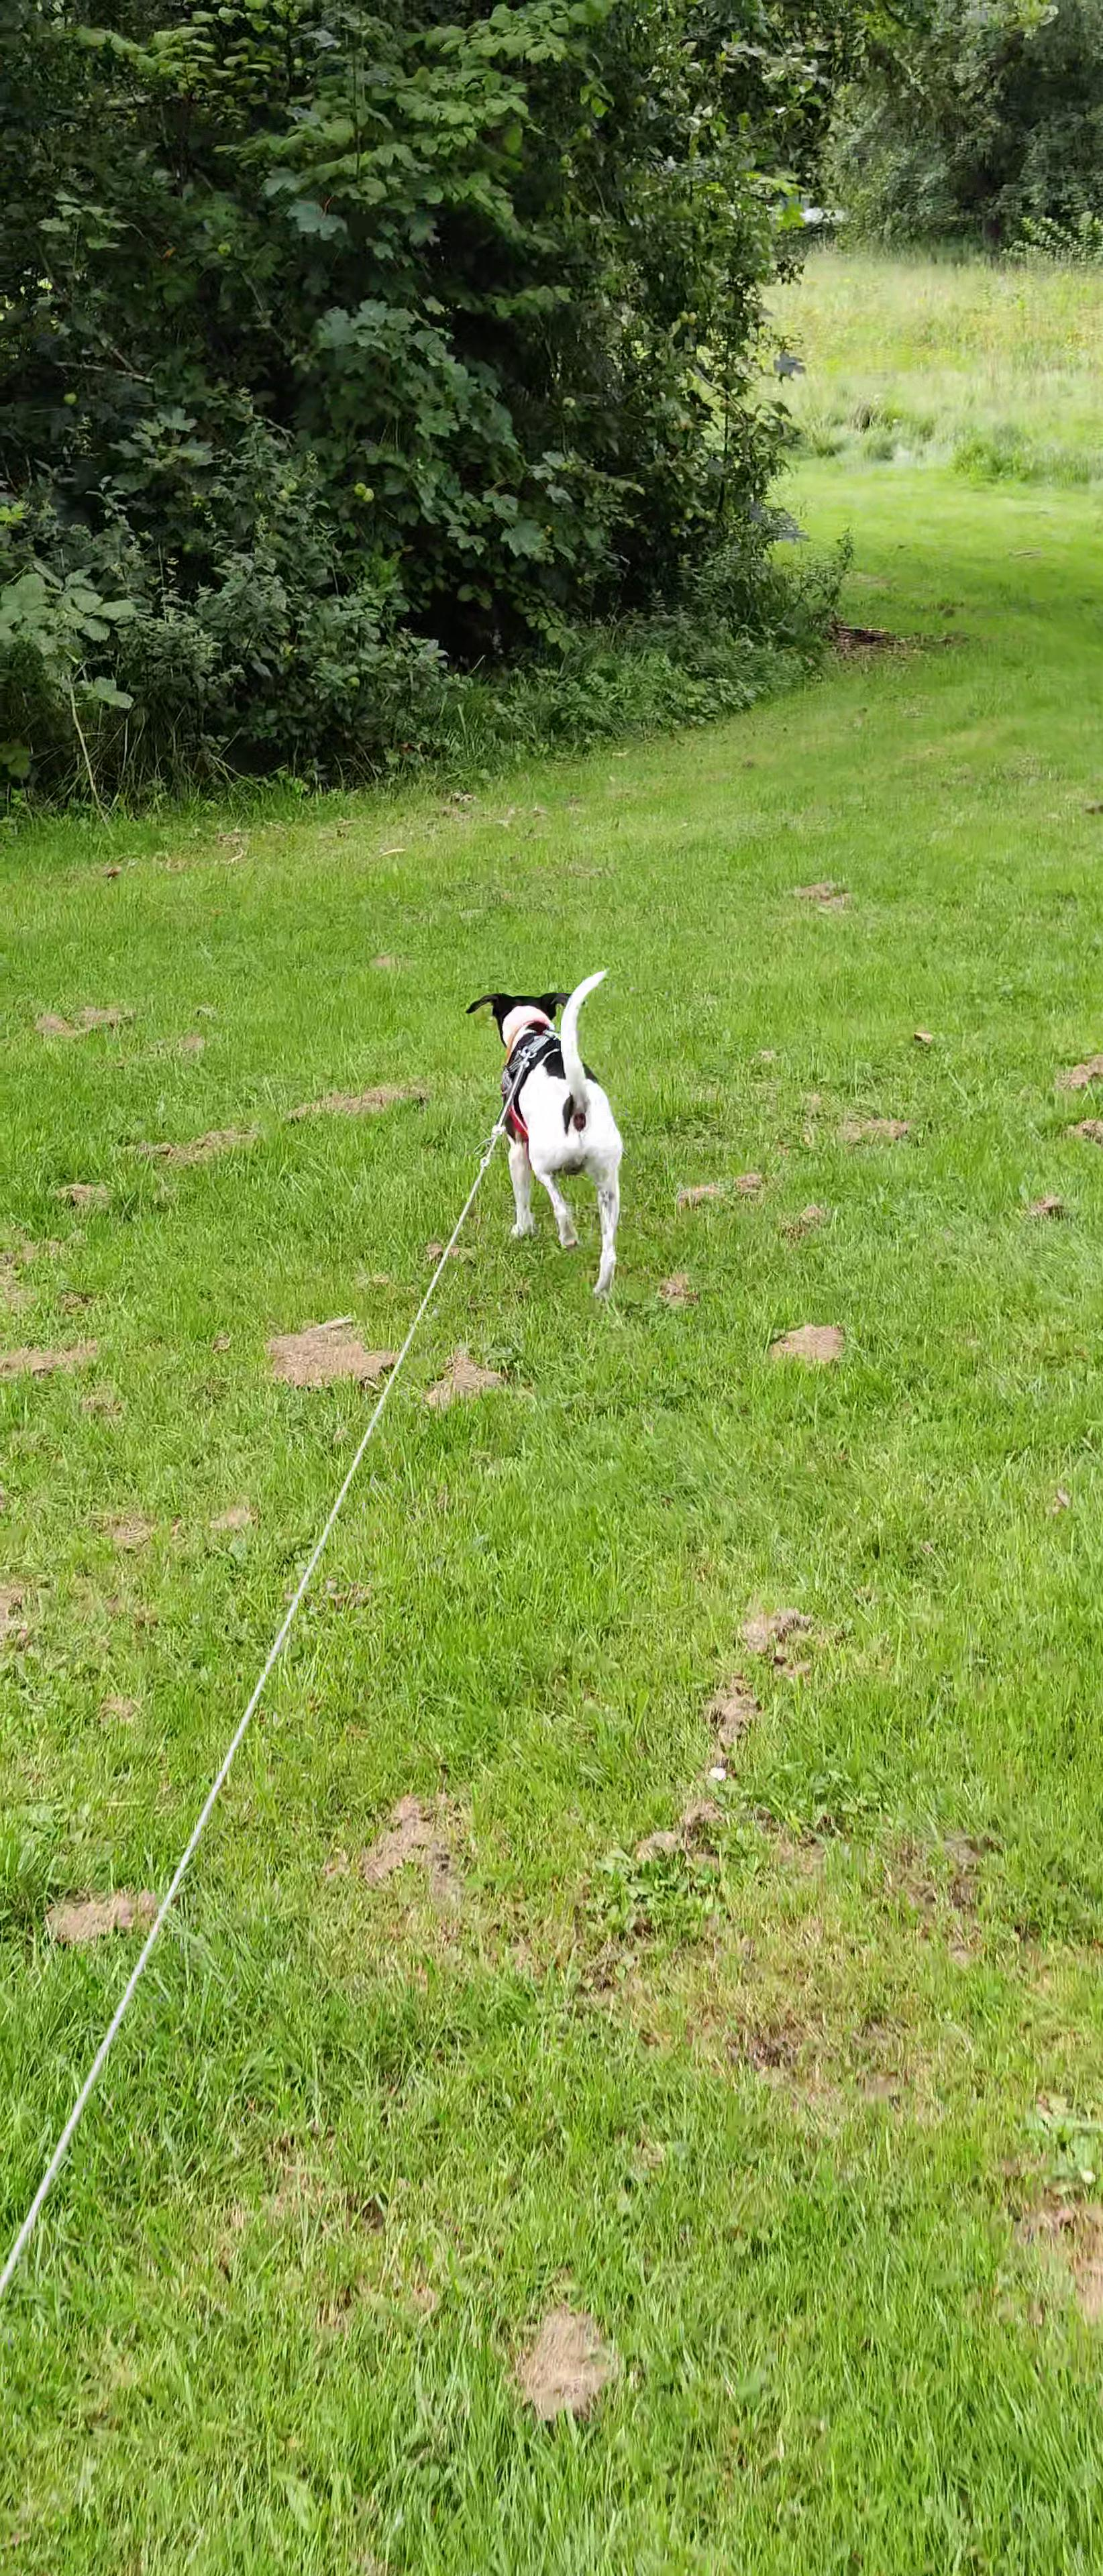Dog: (445, 923, 646, 1314)
